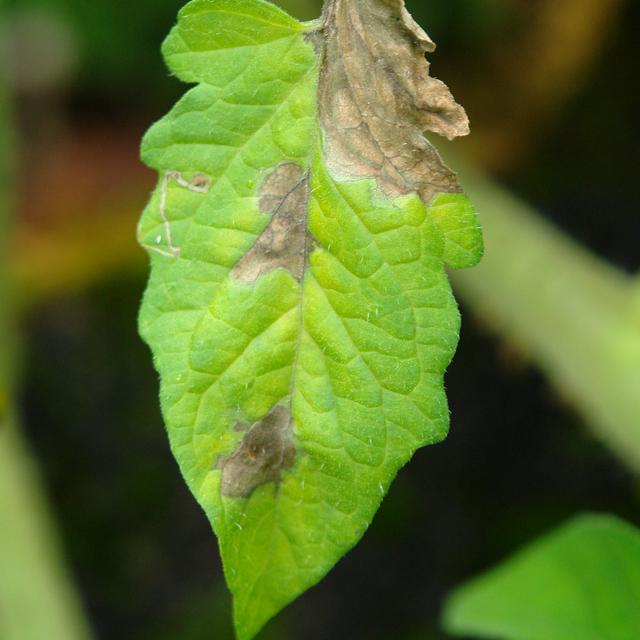Tomato leaf late blight: (124, 0, 492, 640)
